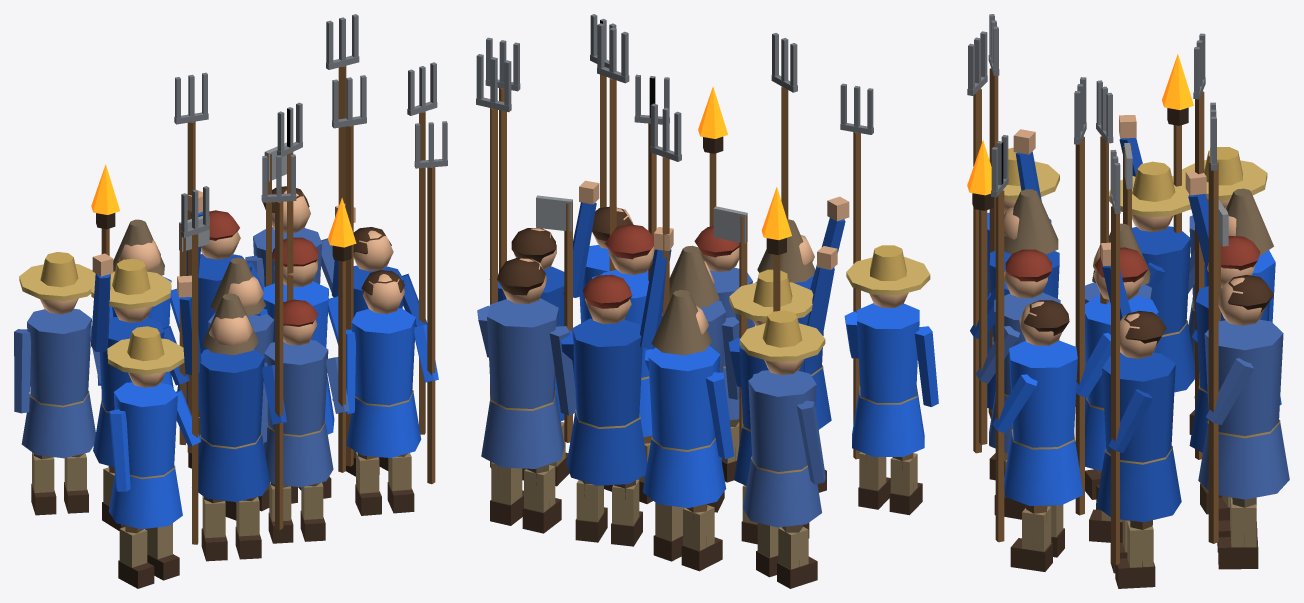
The model's file is squad_dl1_blue.glb.
3 renders of one model, left to right at view 1: azimuth 30°, elevation 25°; view 2: azimuth 150°, elevation 25°; view 3: azimuth 270°, elevation 25°, orthographic. The views are drawn at different scales.
Visible parts, largest first — view 1: squad_dl1_blue; view 2: squad_dl1_blue; view 3: squad_dl1_blue.
Boxes of the visible parts, box(x1,y1,x2,y2) form: squad_dl1_blue: box(14, 14, 447, 588); squad_dl1_blue: box(476, 14, 938, 588); squad_dl1_blue: box(967, 14, 1289, 588).
Size of the model in its own units: 0.5915 by 0.6354 by 0.3979.
2 materials, 1 textured.
